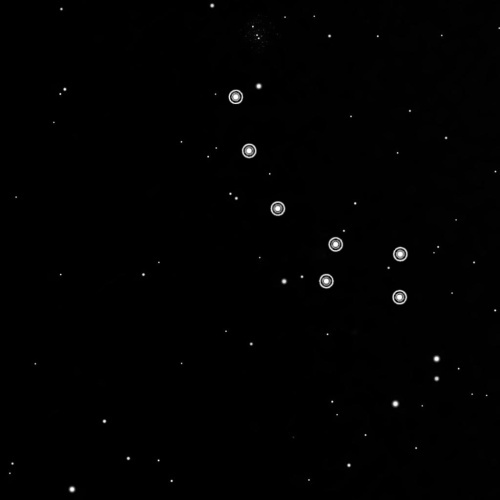ursa_minor: (223, 84, 413, 309)
